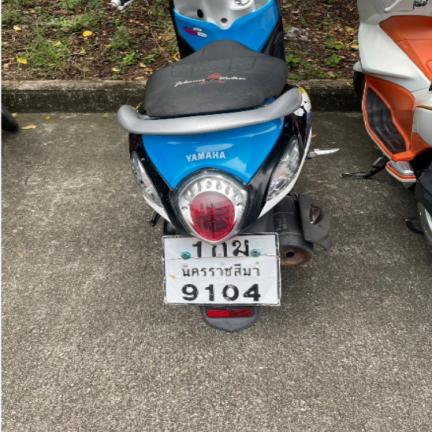0: (220, 283, 241, 302)
1: (202, 283, 217, 303), (191, 239, 206, 258)
4: (242, 282, 264, 303)
9: (181, 283, 201, 302)
A01: (210, 242, 230, 259)
A06: (231, 239, 252, 257)
NMA: (179, 262, 263, 279)
